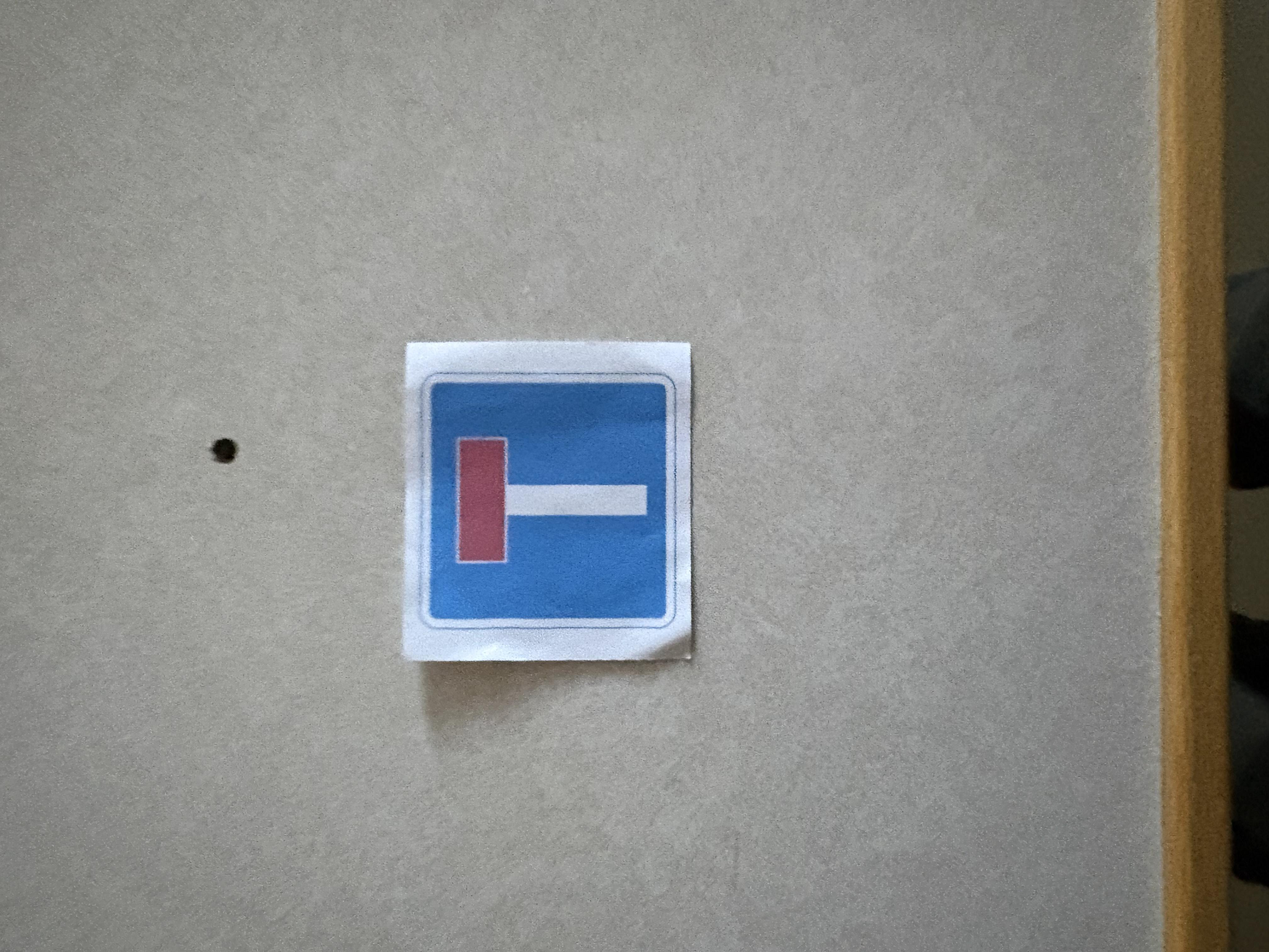Dead End: (407, 343, 691, 663)
